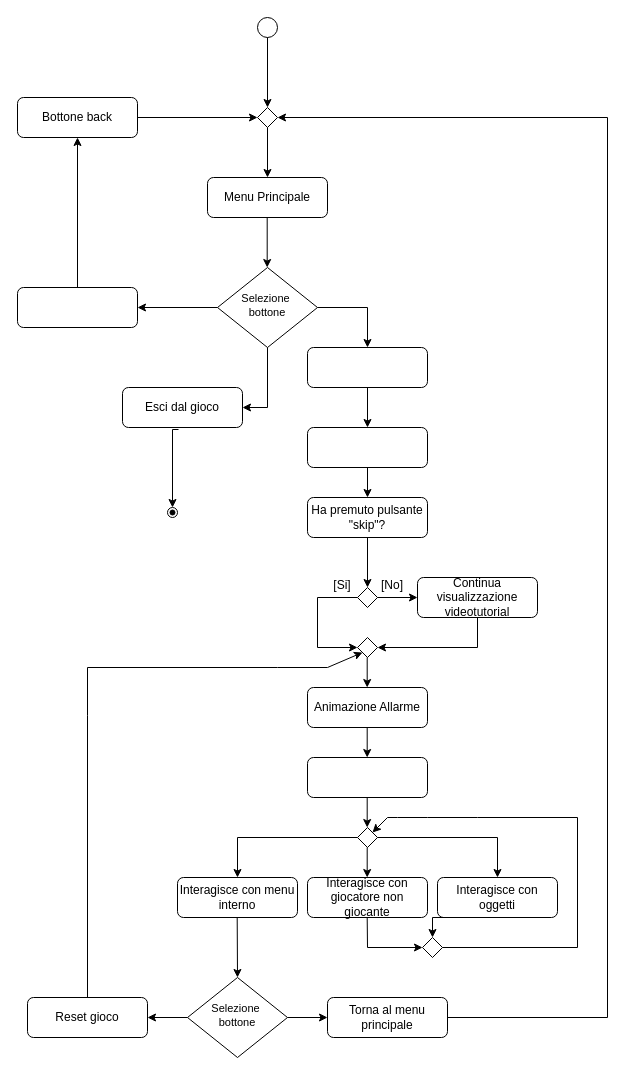
The diagram is 633 pixels wide and 1075 high, and some of its shapes have lost their labels. The centre of each missing label's shape, as x and y in pixels:
"Caricamento stanza" goes at (x=367, y=777).
"Start" goes at (x=367, y=367).
"Visualizza punteggio migliore" goes at (x=77, y=307).
"Visualizza videotutorial" goes at (x=367, y=447).
